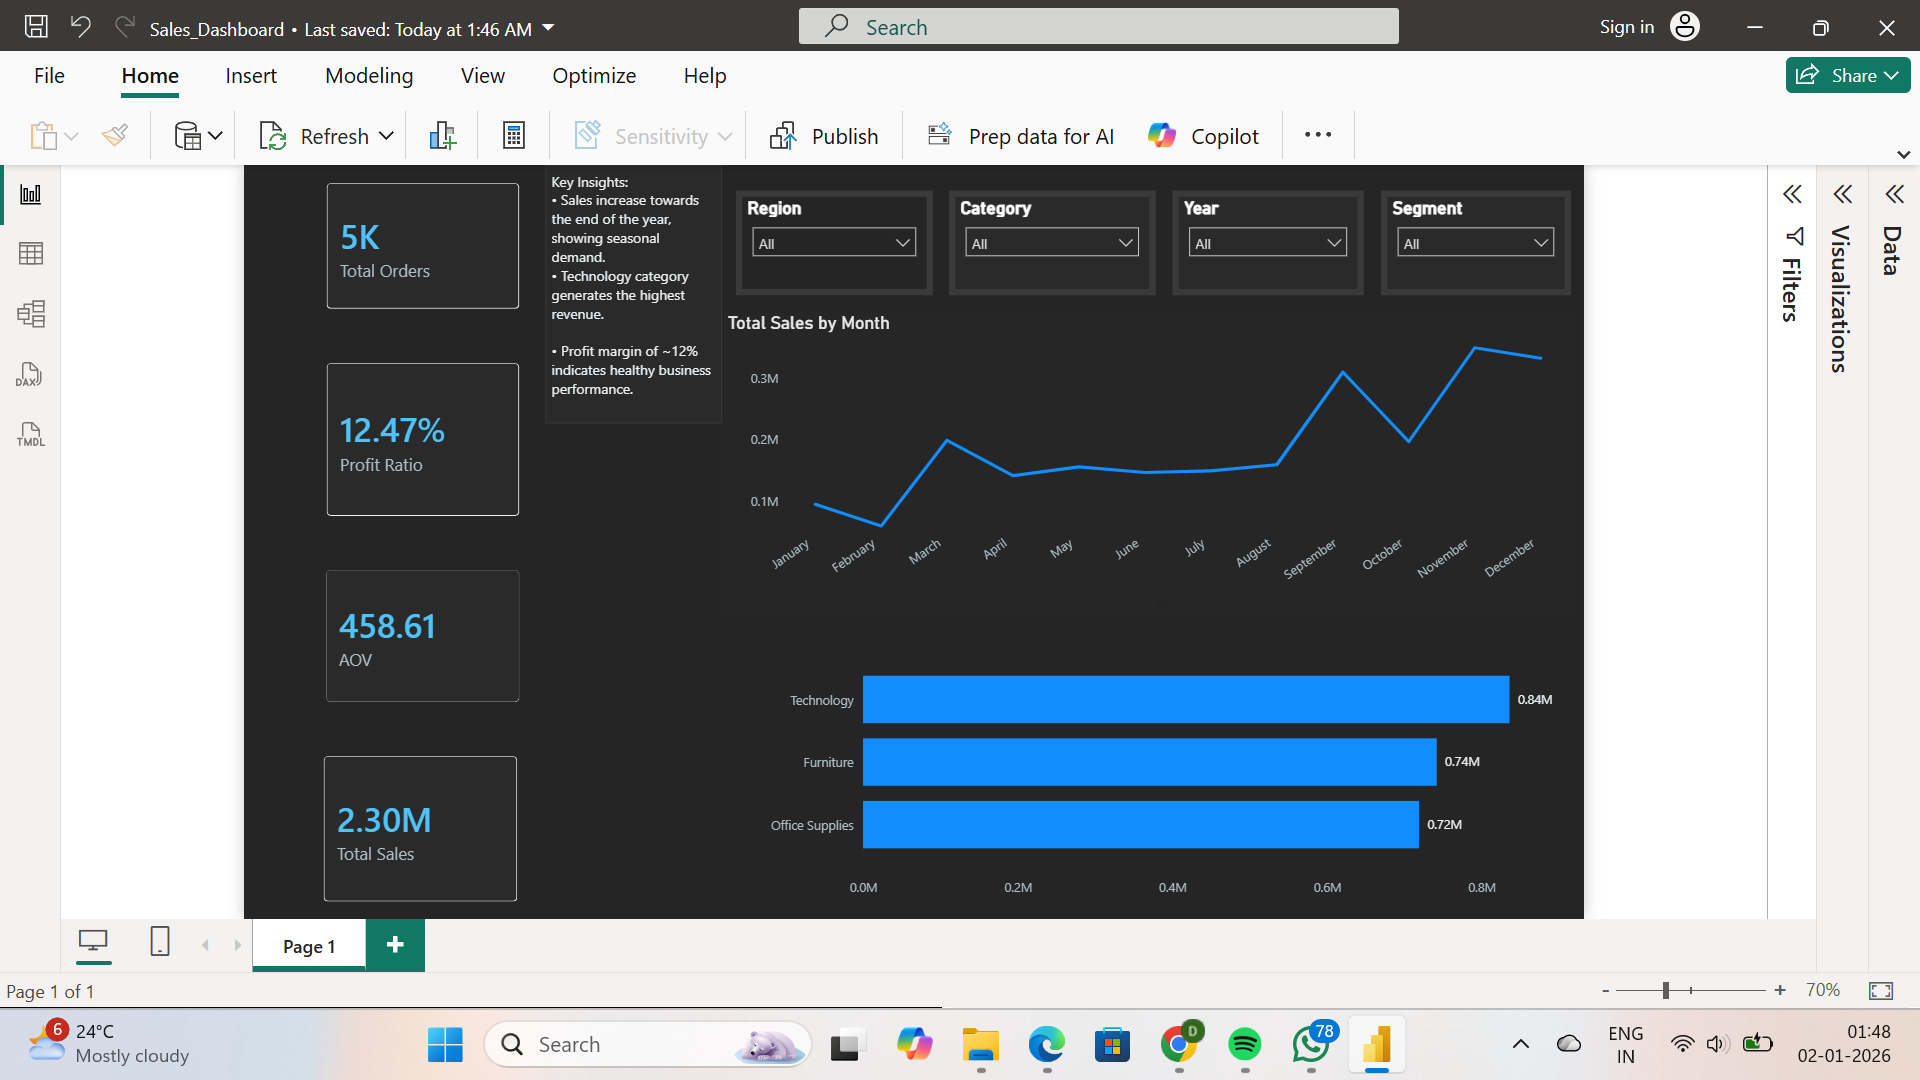

The page's visual inventory and layout, read from the dashboard file:
{"tool":"powerbi","page":{"name":"Page 1","canvas":[1280,720],"ordinal":0},"visuals":[{"type":"lineChart","fields":{"Y":["Orders.Total Sales"],"Category":["Orders.Month"]},"box":[456.5,140,811.2,291.1],"z":0},{"type":"clusteredBarChart","fields":{"Category":["Orders.Category"],"Y":["Orders.Total Sales"]},"box":[469.2,431.1,798.5,289.5],"z":1000},{"type":"cardVisual","fields":{"Data":["Orders.Total Sales"]},"box":[58.9,547.2,219.5,173.4],"z":2000},{"type":"cardVisual","fields":{"Data":["Orders.Total Orders"]},"box":[61.1,0,218.3,154.3],"z":3000},{"type":"cardVisual","fields":{"Data":["Orders.AOV"]},"box":[61.1,369.7,218.3,160.1],"z":4000},{"type":"cardVisual","fields":{"Data":["Orders.Profit Ratio"]},"box":[61.1,171.8,218.3,180.5],"z":5000},{"type":"textbox","box":[287.9,0,168.6,246.5],"z":6000},{"type":"slicer","title":" Region","fields":{"Values":["Orders.Region"]},"box":[469.2,23.9,187.7,100.2],"z":7000},{"type":"slicer","title":" Category","fields":{"Values":["Orders.Category"]},"box":[673.4,23.9,197.2,100.2],"z":8000},{"type":"slicer","title":"Year","fields":{"Values":["Orders.OrderDate.Variation.Date Hierarchy.Year","Orders.OrderDate.Variation.Date Hierarchy.Quarter","Orders.OrderDate.Variation.Date Hierarchy.Month","Orders.OrderDate.Variation.Date Hierarchy.Day"]},"box":[887,23.9,182.9,100.2],"z":9000},{"type":"slicer","title":"Segment","fields":{"Values":["Orders.Segment"]},"box":[1086.4,23.9,181.3,100.2],"z":10000}]}

Visuals, with their boxes on the page's 1280x720 design canvas (x1, y1, x2, y2). These are canvas units, not pixel positions in the 1920x1080 screenshot, which may show the page scaled, cropped or inside an application window:
lineChart - Orders.Total Sales x Orders.Month: Rect(456, 140, 1268, 431)
clusteredBarChart - Orders.Category x Orders.Total Sales: Rect(469, 431, 1268, 721)
cardVisual - Orders.Total Sales: Rect(59, 547, 278, 721)
cardVisual - Orders.Total Orders: Rect(61, 0, 279, 154)
cardVisual - Orders.AOV: Rect(61, 370, 279, 530)
cardVisual - Orders.Profit Ratio: Rect(61, 172, 279, 352)
textbox: Rect(288, 0, 456, 246)
" Region" slicer: Rect(469, 24, 657, 124)
" Category" slicer: Rect(673, 24, 871, 124)
"Year" slicer: Rect(887, 24, 1070, 124)
"Segment" slicer: Rect(1086, 24, 1268, 124)
